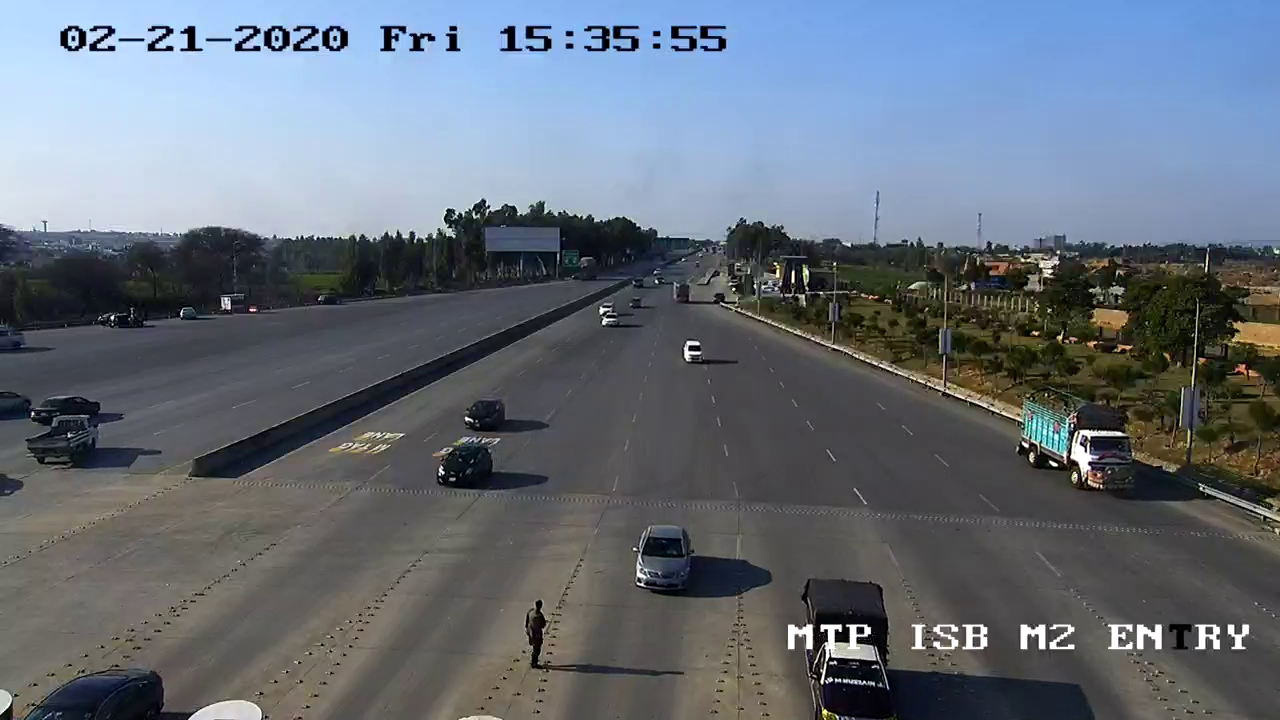f1: (619, 520, 704, 597), (423, 434, 503, 495), (455, 389, 514, 435)
f5: (1006, 374, 1146, 498)
